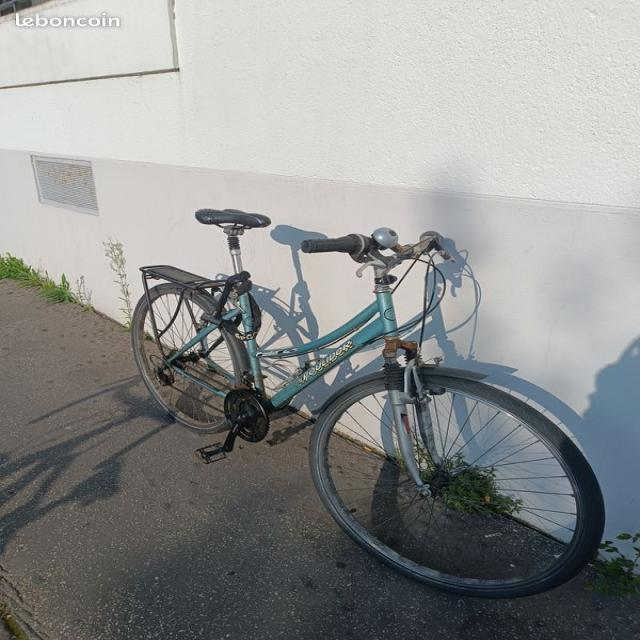Bike: (131, 209, 603, 597)
